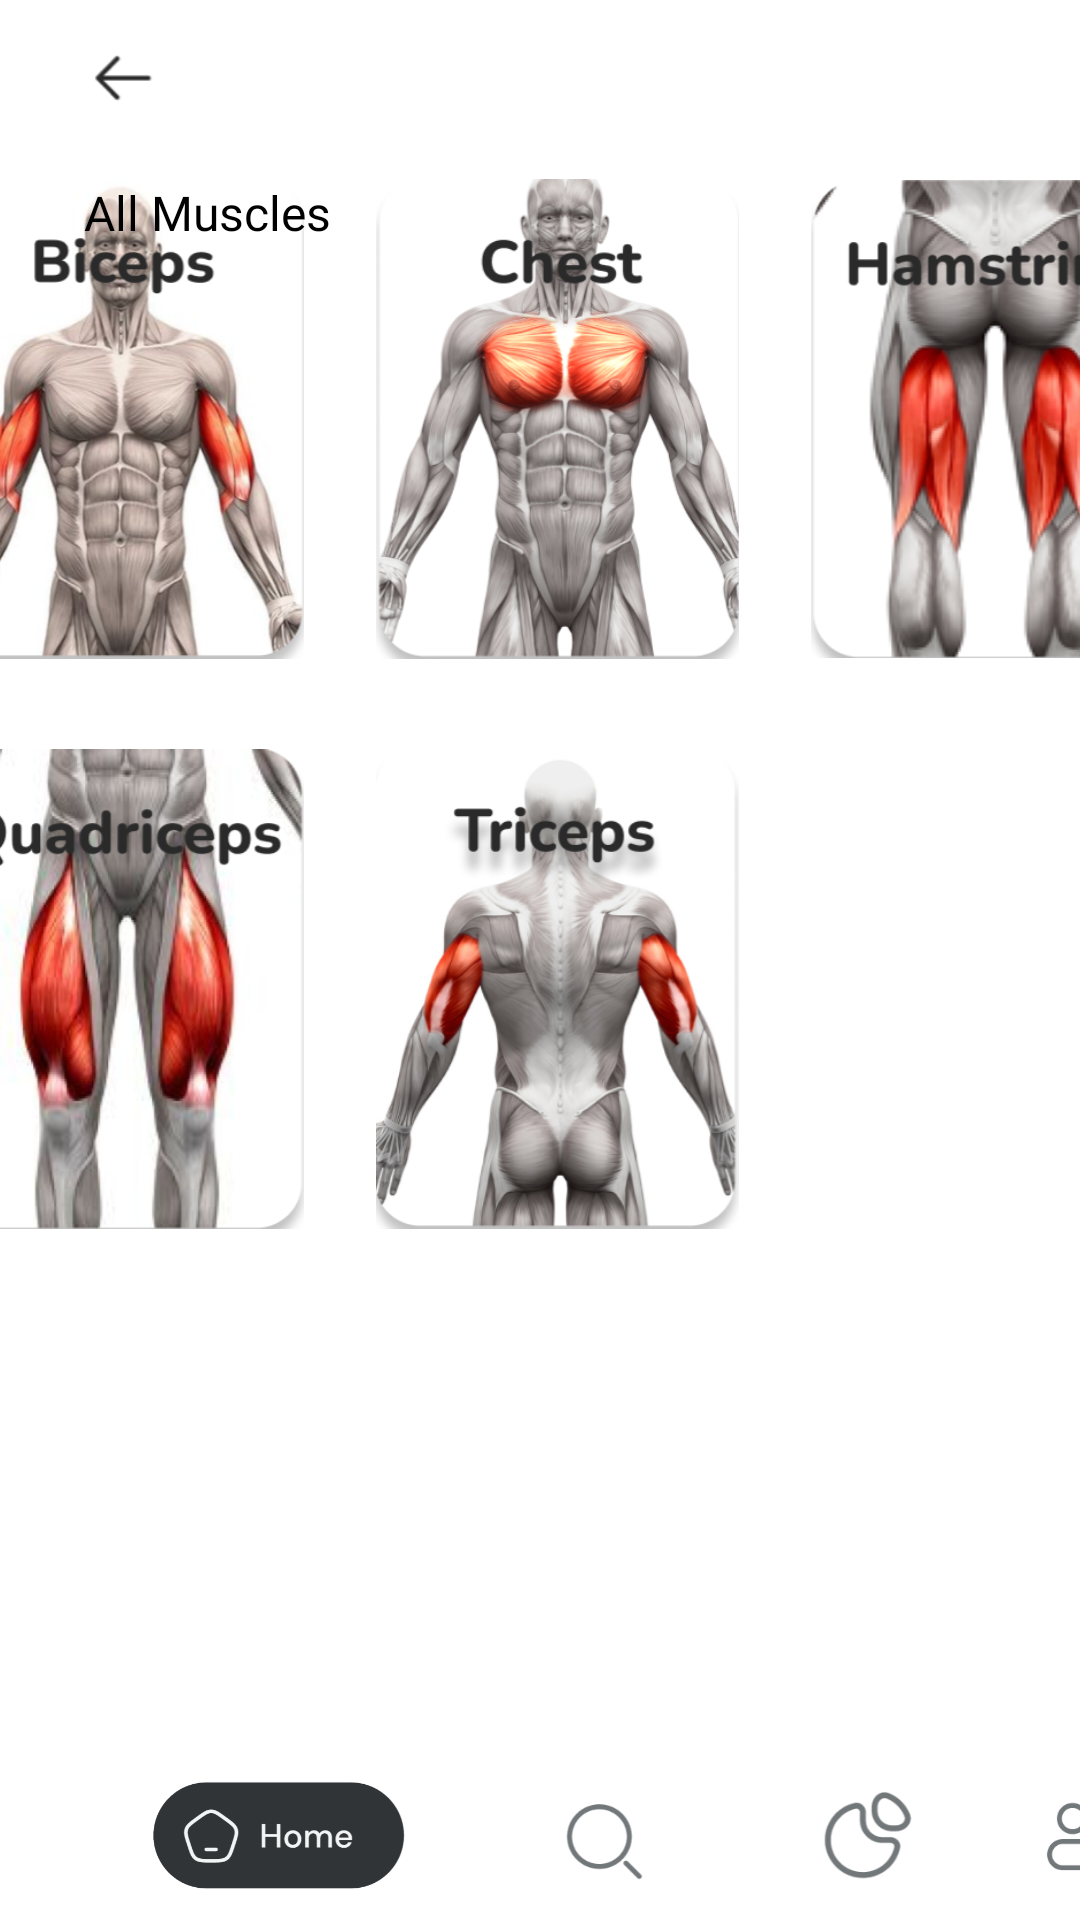

Screen size 1080w x 1920h. Icon name, then its center in pixels as (x=x, y=y):
back: (x=123, y=78)
search: (x=604, y=1841)
